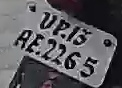1: (62, 25, 78, 44)
2: (40, 38, 58, 61), (51, 42, 65, 67)
3: (73, 29, 90, 46)
5: (79, 56, 97, 80)
6: (63, 51, 81, 72)
A: (15, 27, 30, 50)
E: (26, 34, 43, 54)
P: (51, 20, 68, 36)
U: (38, 12, 58, 30)
